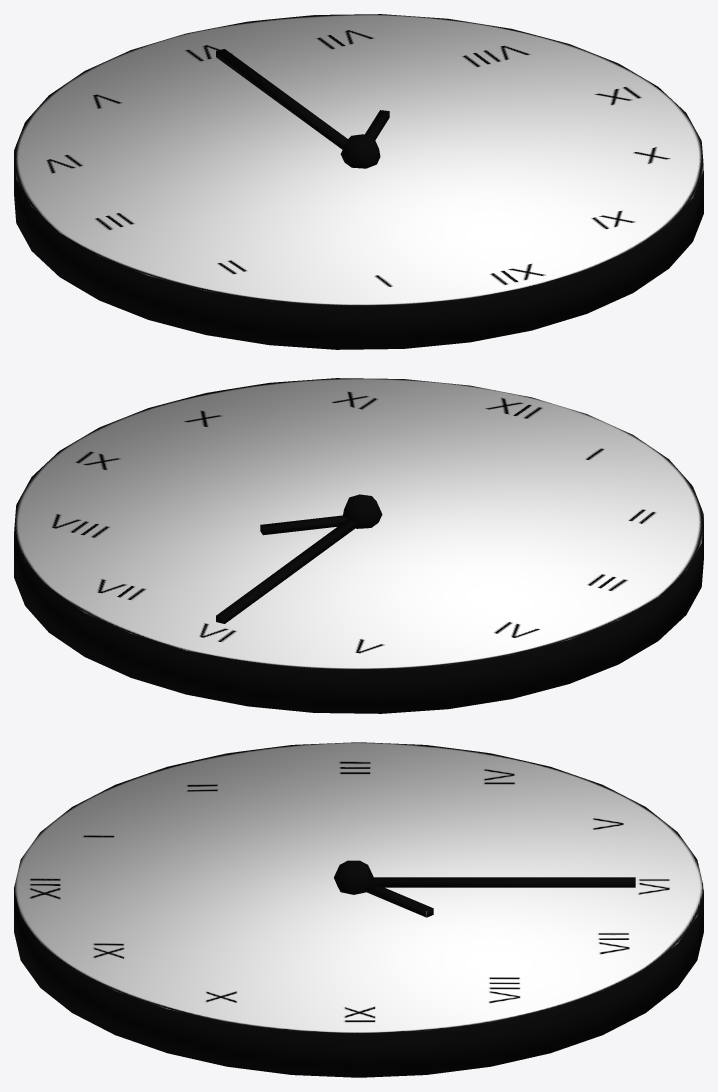
The model's file is Clock.fbx.
3 renders of one model, top to bottom at view 1: azimuth 30°, elevation 25°; view 2: azimuth 150°, elevation 25°; view 3: azimuth 270°, elevation 25°, orthographic.
Parts seen in each view (by area): view 1: Cylinder; view 2: Cylinder; view 3: Cylinder.
Boxes of the visible parts, x1,y1,x2,y2 form: Cylinder: (14,14,703,349); Cylinder: (14,378,703,713); Cylinder: (14,742,703,1077).
Bounding box in the file's own units: 0.7662 × 0.0871 × 0.7662.
